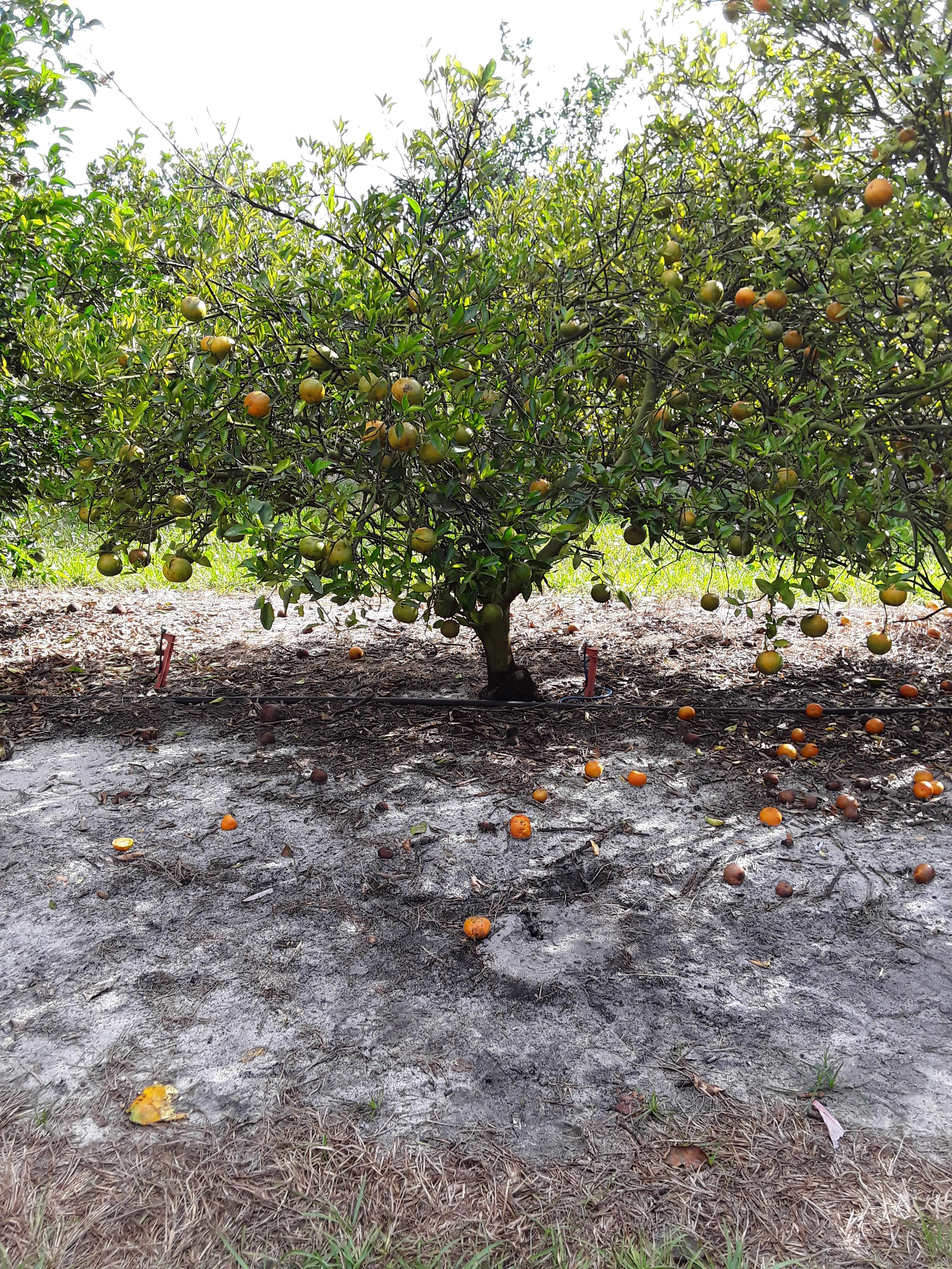fruit_on_ground: (392, 376, 424, 405), (388, 421, 418, 451), (863, 179, 894, 208), (359, 372, 388, 402), (163, 558, 193, 582), (410, 528, 439, 552), (800, 613, 829, 637), (299, 378, 325, 404), (244, 391, 271, 416), (774, 467, 798, 495), (324, 542, 353, 565), (443, 356, 472, 379), (880, 582, 906, 607), (867, 629, 892, 655), (181, 297, 207, 322), (298, 536, 326, 559), (756, 652, 784, 675), (392, 601, 419, 624), (698, 280, 722, 305), (309, 346, 334, 370), (97, 553, 123, 576), (813, 170, 837, 194), (421, 440, 446, 463), (360, 421, 387, 442), (408, 289, 432, 312), (449, 422, 474, 444), (168, 495, 194, 516), (509, 562, 532, 585), (730, 534, 754, 556), (722, 1, 746, 22), (824, 301, 847, 322), (480, 604, 504, 624), (118, 446, 146, 463), (652, 198, 674, 219), (660, 241, 682, 262), (731, 400, 754, 420), (624, 525, 647, 545), (651, 408, 672, 429), (529, 478, 551, 498), (660, 271, 682, 291), (128, 548, 152, 566), (734, 286, 754, 307), (765, 289, 786, 309), (762, 321, 782, 341), (783, 331, 803, 351), (898, 128, 920, 146), (212, 337, 234, 355), (669, 390, 689, 409), (873, 144, 893, 163), (785, 274, 806, 292), (871, 37, 893, 54), (459, 318, 478, 337), (379, 449, 397, 469), (560, 319, 578, 339), (896, 437, 914, 456), (854, 507, 872, 526), (441, 620, 460, 638), (592, 585, 612, 602), (678, 510, 696, 528), (701, 593, 719, 611), (80, 505, 97, 523), (753, 0, 774, 14), (801, 130, 819, 146), (481, 390, 500, 405), (522, 398, 539, 414), (500, 525, 518, 540), (614, 374, 630, 390), (684, 532, 703, 545), (31, 548, 48, 562), (939, 110, 952, 128), (942, 586, 952, 609), (80, 454, 95, 469), (896, 295, 912, 309), (200, 336, 216, 350), (118, 349, 130, 367), (677, 215, 694, 227), (805, 347, 818, 360), (931, 461, 942, 476), (918, 394, 934, 404), (946, 516, 952, 538), (755, 298, 766, 309), (354, 311, 366, 320), (890, 366, 898, 372)
fruit_on_tree: (462, 916, 491, 937), (509, 815, 532, 839), (913, 862, 934, 885), (760, 806, 781, 826), (724, 865, 746, 884), (835, 794, 857, 810), (914, 781, 933, 799), (262, 704, 282, 721), (865, 718, 885, 735), (778, 743, 797, 760), (112, 837, 134, 851), (629, 769, 647, 786), (677, 706, 696, 722), (775, 881, 794, 897), (913, 769, 934, 783), (585, 761, 602, 778), (311, 769, 328, 785), (221, 814, 237, 831), (900, 684, 918, 699), (806, 703, 824, 718), (682, 734, 701, 748), (260, 732, 278, 746), (348, 646, 364, 661), (866, 676, 887, 687), (802, 743, 818, 757), (763, 771, 779, 785), (804, 794, 818, 810), (296, 648, 311, 661), (856, 777, 871, 790), (779, 790, 794, 803), (533, 789, 549, 801), (378, 846, 394, 858), (825, 779, 842, 790), (792, 728, 805, 742), (931, 781, 945, 794), (928, 626, 943, 638), (66, 602, 82, 613), (112, 603, 126, 615), (839, 614, 851, 628), (844, 809, 860, 819), (940, 680, 952, 693), (781, 837, 794, 848), (567, 624, 581, 634), (377, 802, 387, 813), (276, 609, 288, 618), (480, 821, 490, 831), (301, 626, 313, 634), (926, 627, 935, 637)
